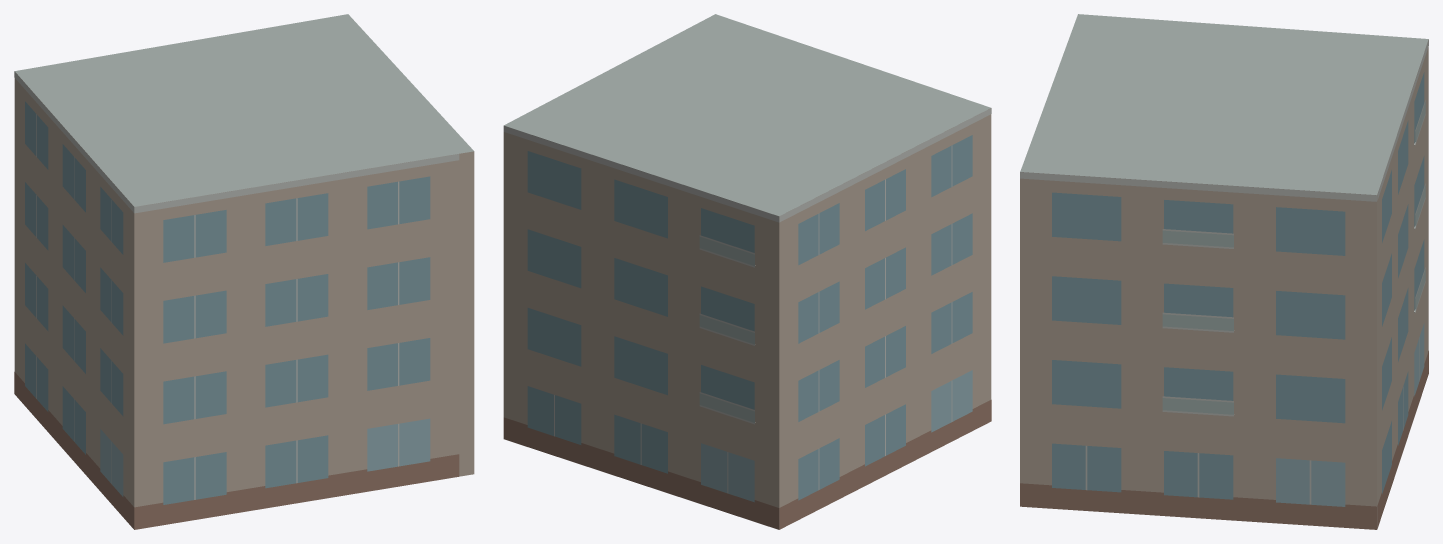
The model's file is survey-upis-32734303.glb.
3 views of the same model, side by side, from view 1: azimuth 30°, elevation 25°; view 2: azimuth 150°, elevation 25°; view 3: azimuth 270°, elevation 25° (orthographic). The views are drawn at different scales.
Visible parts, largest first — view 1: survey-upis-32734303.tmp; view 2: survey-upis-32734303.tmp; view 3: survey-upis-32734303.tmp.
Boxes of the visible parts, box(x1,y1,x2,y2) form: survey-upis-32734303.tmp: box(14, 14, 474, 529); survey-upis-32734303.tmp: box(503, 14, 991, 529); survey-upis-32734303.tmp: box(1020, 14, 1428, 529).
Size of the model in its own units: 14.17 by 12.2 by 13.5.
